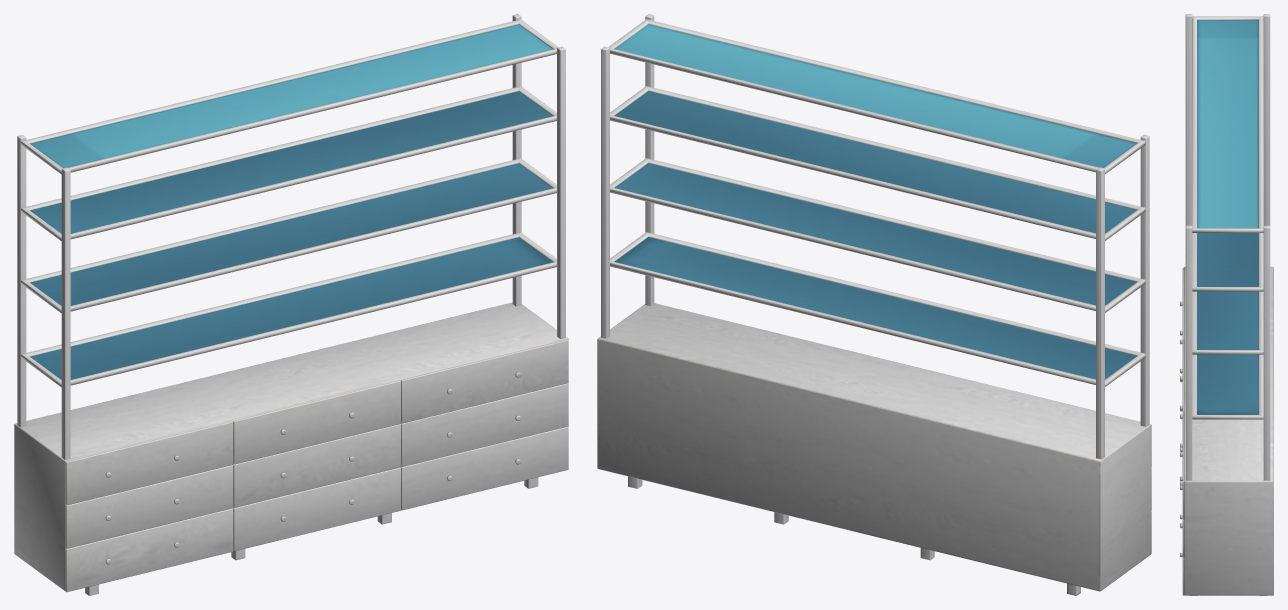
File: EE_StorageDisUnit_01.gltf
The picture shows the model from 3 angles, left to right: view 1: azimuth 30°, elevation 25°; view 2: azimuth 150°, elevation 25°; view 3: azimuth 270°, elevation 25°; orthographic projection. The views are drawn at different scales.
Parts seen in each view (by area): view 1: EE_StorageDisUnit_01.001; view 2: EE_StorageDisUnit_01.001; view 3: EE_StorageDisUnit_01.001.
Part boxes in pixels (x1,y1,x2,y2): EE_StorageDisUnit_01.001: (14,14,568,595); EE_StorageDisUnit_01.001: (597,14,1151,595); EE_StorageDisUnit_01.001: (1180,14,1273,595).
Size of what is drawn, in the model's own units: 3.55 by 2.91 by 0.6536.
3 materials, 3 textured.
